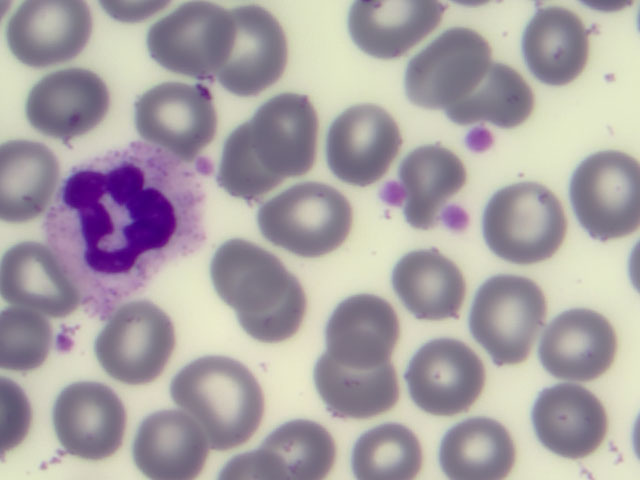Platelets: (444, 207, 476, 234), (464, 130, 492, 151), (384, 183, 401, 202)
RBC: (164, 357, 259, 435), (535, 385, 614, 464), (573, 153, 640, 240), (254, 99, 321, 177), (492, 184, 561, 259), (219, 7, 284, 86), (330, 295, 396, 372), (401, 42, 484, 103), (134, 410, 208, 478), (473, 281, 538, 358), (523, 7, 589, 82), (454, 64, 532, 127), (318, 353, 398, 413), (5, 1, 77, 67), (540, 313, 615, 376), (336, 105, 398, 178), (48, 392, 123, 452), (443, 421, 519, 480), (148, 15, 229, 70), (224, 120, 283, 193), (147, 80, 213, 145), (101, 311, 165, 378), (213, 245, 282, 307), (407, 348, 479, 407), (268, 193, 345, 248), (242, 275, 304, 341), (402, 255, 465, 313), (346, 1, 427, 46), (269, 425, 331, 480), (405, 144, 459, 203), (2, 307, 52, 370), (351, 425, 409, 479), (39, 80, 92, 132), (3, 251, 51, 307), (1, 142, 38, 213), (230, 446, 292, 480), (1, 381, 28, 447)
WBC: (62, 156, 194, 299)
